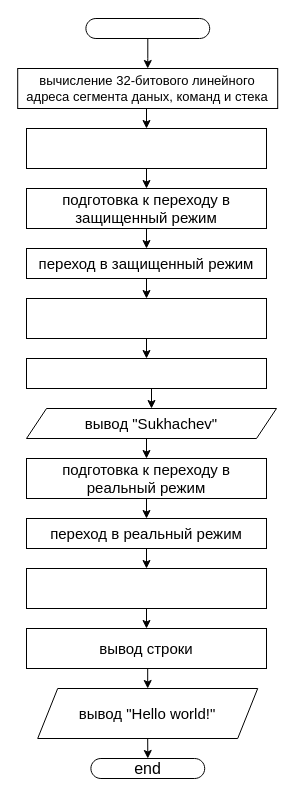
This 295x796 diagram has some shape labels left out. The centre of each missing label's shape, as x and y in pixels:
"start" goes at point 147,28.
"восстановка операционной среды для реального режима" goes at point 146,588.
"вывод символов" goes at point 146,373.
"загружаем селектор, делаем адресуемыми данные и стек" goes at point 146,318.
"подготовка псевдодескриптора" goes at point 146,148.
